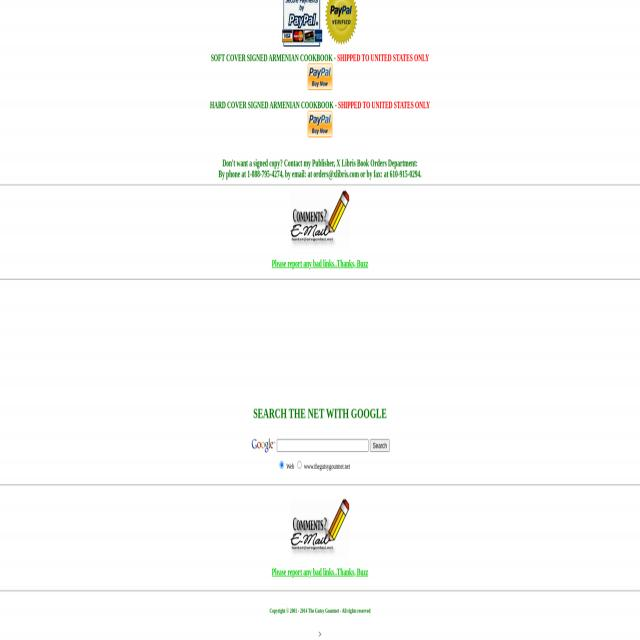button: (282, 0, 358, 52), (290, 190, 350, 248), (290, 499, 350, 557), (250, 436, 276, 456)
field: (277, 439, 369, 452), (308, 110, 332, 138), (308, 63, 332, 90), (370, 439, 390, 452), (297, 461, 302, 469), (280, 461, 284, 469)
